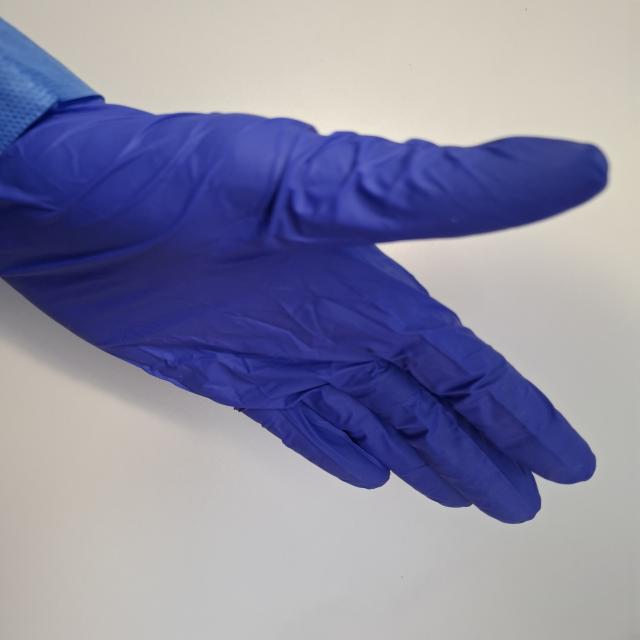glove_on: (0, 88, 613, 529)
